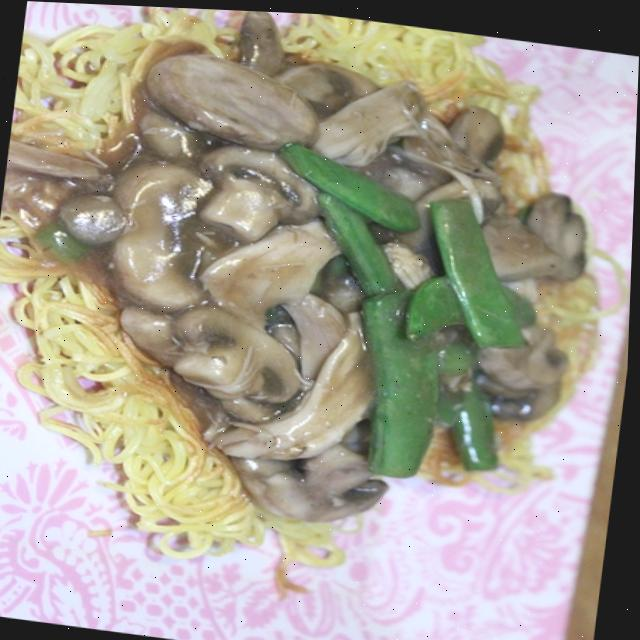面条主食: (0, 0, 624, 635)
